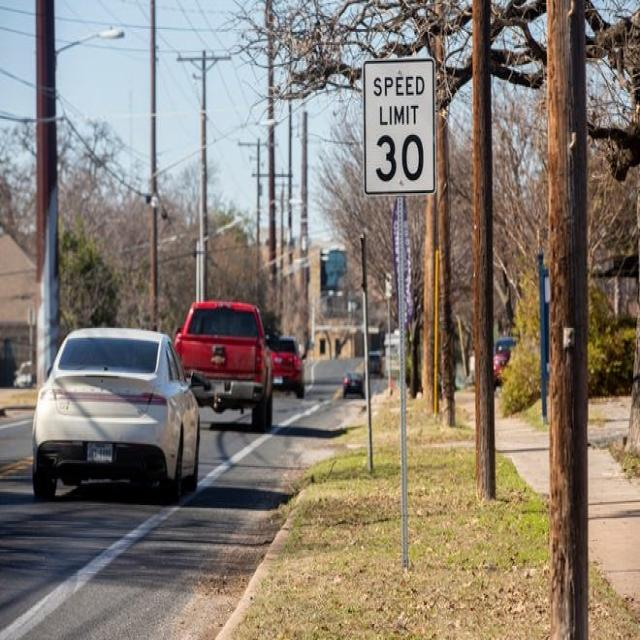speedLimit30: (362, 56, 435, 192)
